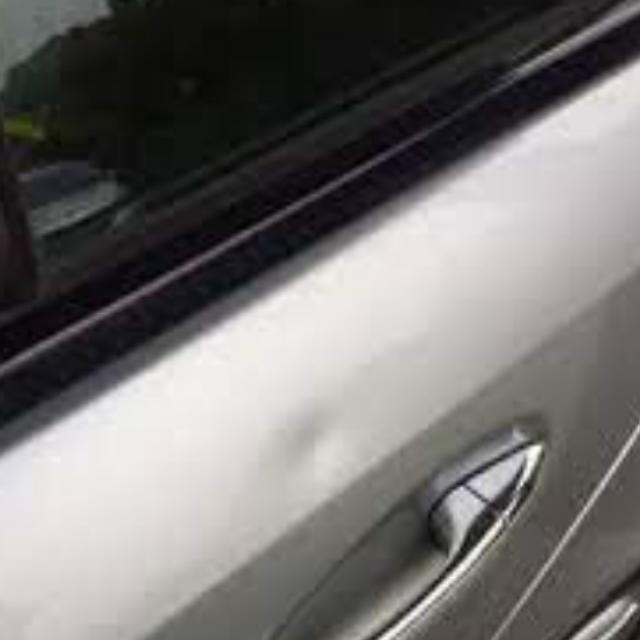dents: (254, 391, 374, 512)
